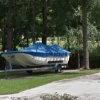Boat: (2, 36, 73, 75)
